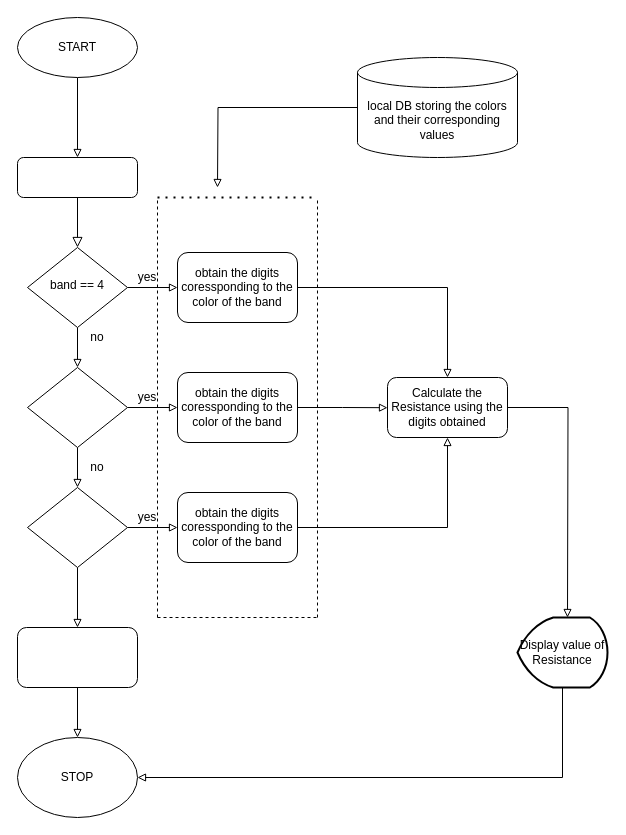
Image size: 626x835. Some labels were removed from this diagram. The box of each missing label's shape, as (x1, y1, x2, y2) in pixels:
band ==5: (26, 366, 128, 448)
band ==6: (26, 486, 128, 568)
count no. of bands: (16, 156, 138, 198)
unsatisfied parameters: (16, 626, 138, 688)
